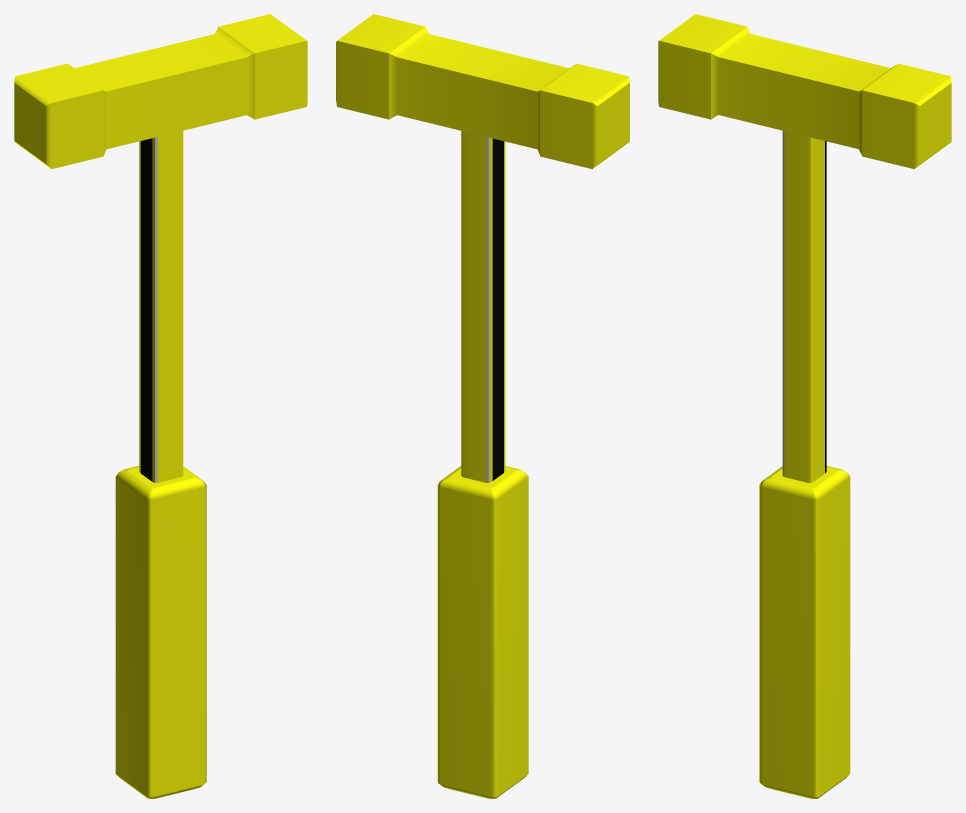
Rendered from HammerOBJ.obj.
3 views of the same model, side by side, from view 1: azimuth 30°, elevation 25°; view 2: azimuth 150°, elevation 25°; view 3: azimuth 330°, elevation 25° (orthographic).
Visible parts, largest first — view 1: Hammer; view 2: Hammer; view 3: Hammer.
Boxes of the visible parts, x1=… form: Hammer: x1=14, y1=14, x2=307, y2=798; Hammer: x1=336, y1=14, x2=629, y2=798; Hammer: x1=658, y1=14, x2=951, y2=798.
Size of the model in its own units: 8.8 by 23.37 by 2.13.
